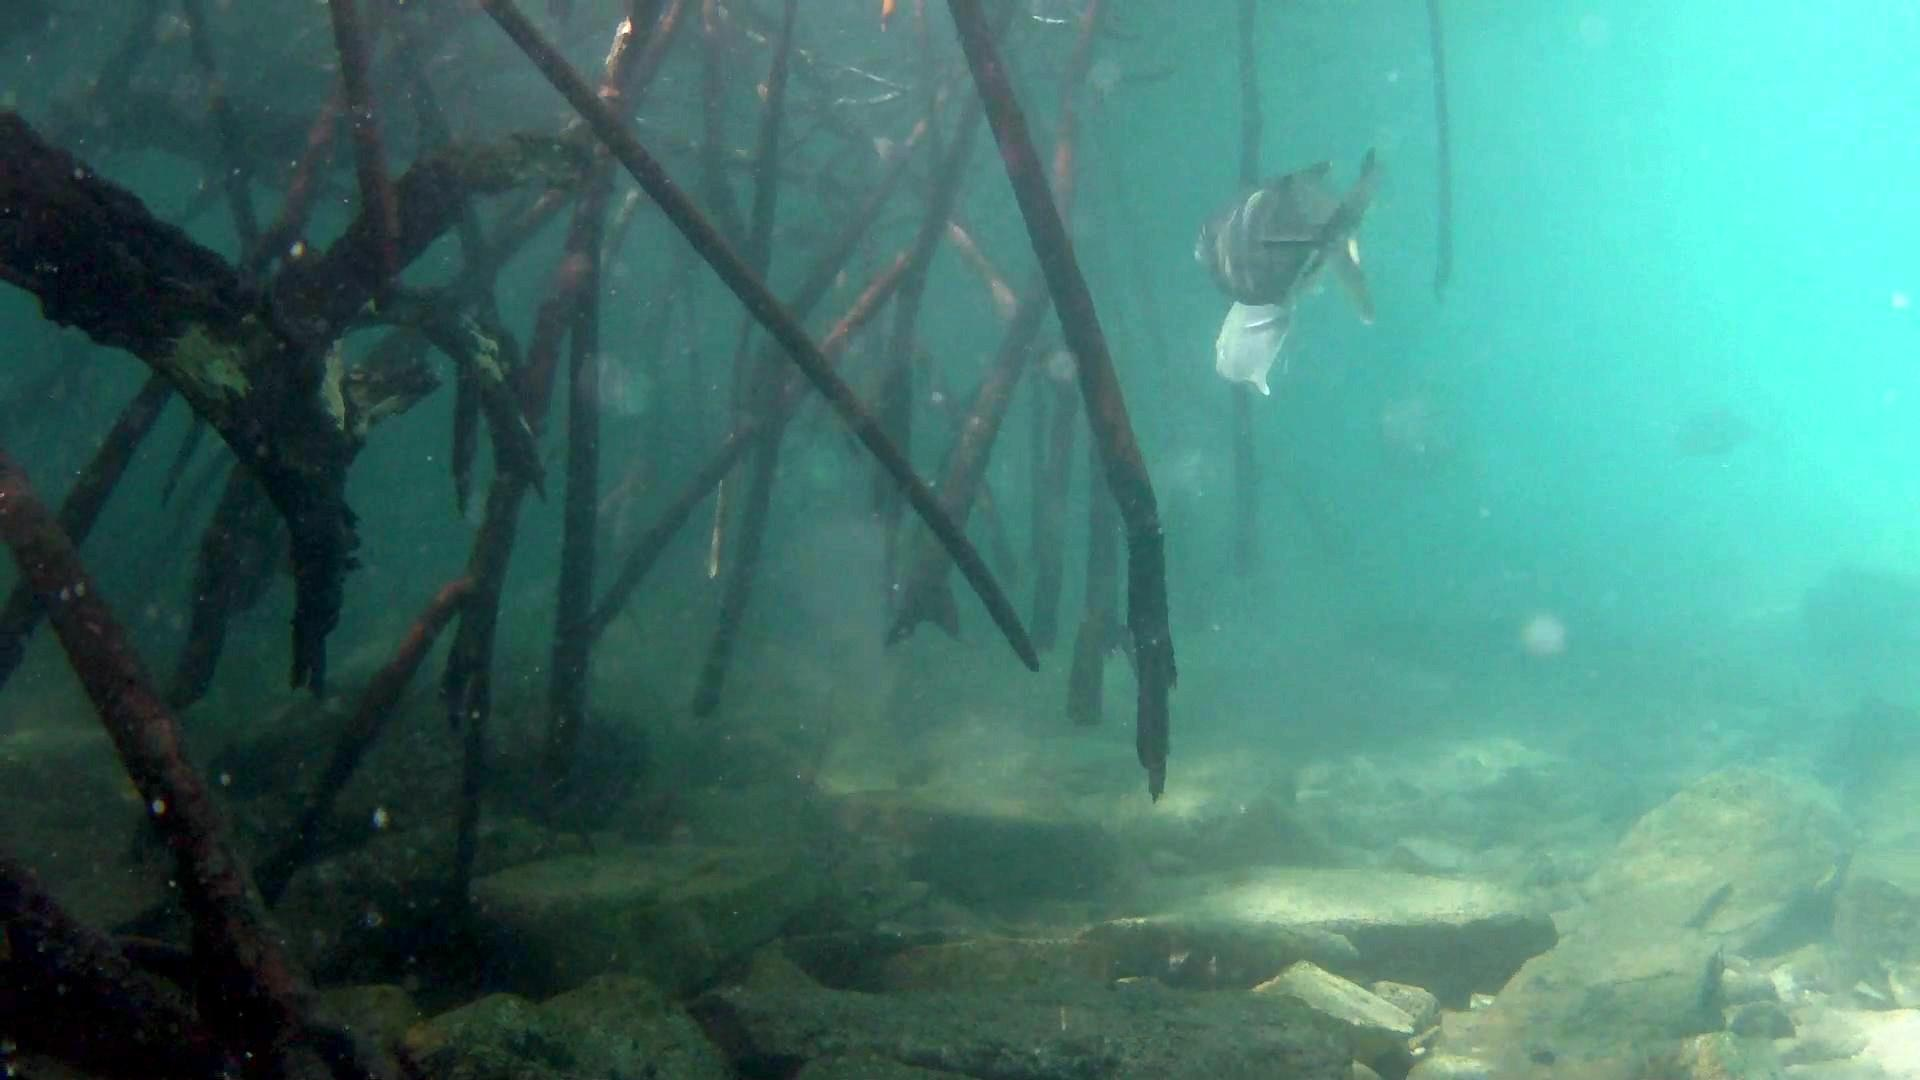caranx: (1181, 138, 1394, 331)
